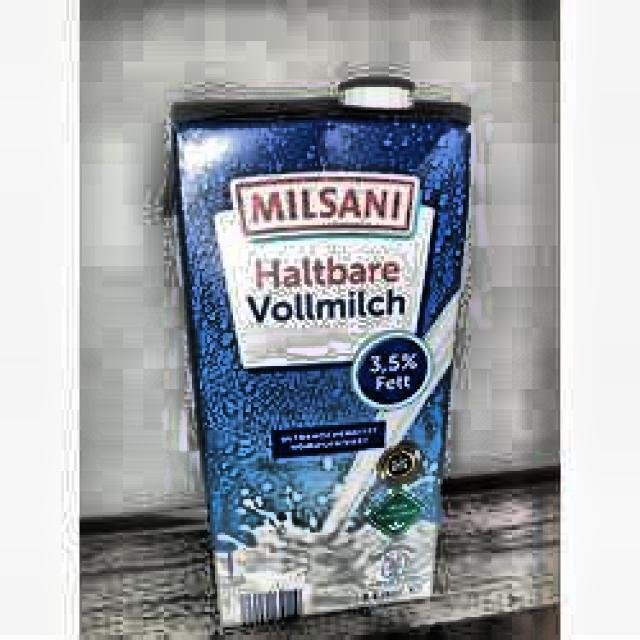cardboard: (164, 82, 471, 628)
